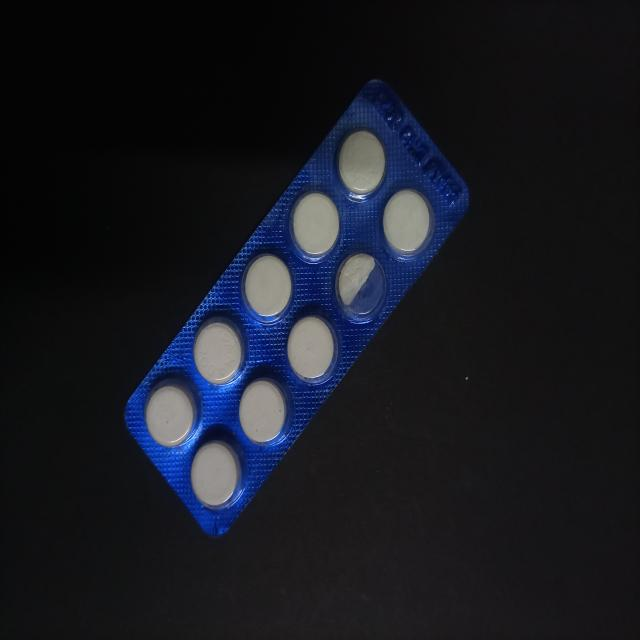defect: (332, 249, 389, 325)
